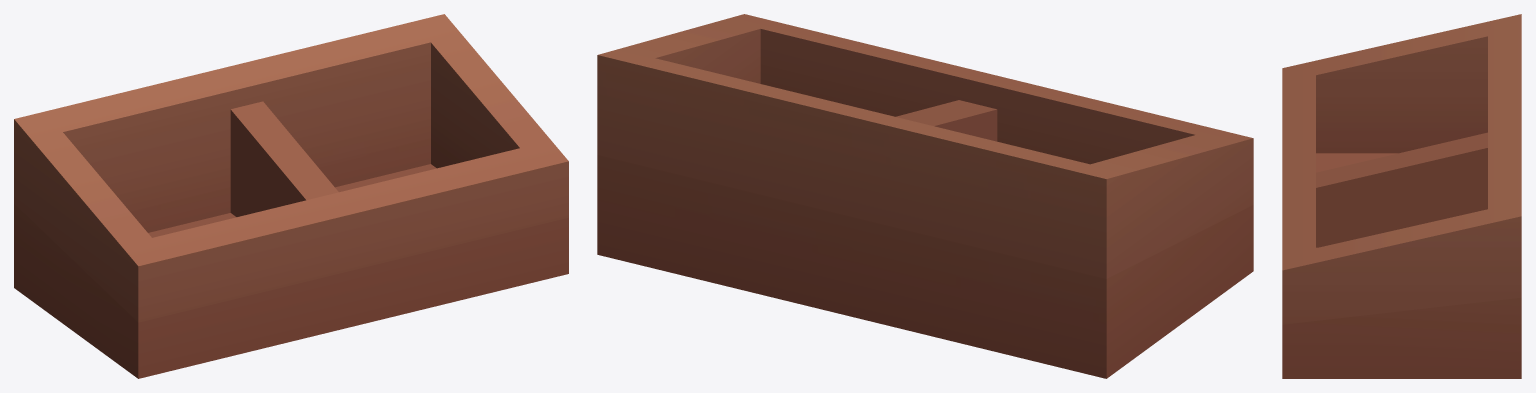
File: kaykit-medieval-hexagon-pack-crate-long-empty.glb
The picture shows the model from 3 angles, left to right: view 1: azimuth 30°, elevation 25°; view 2: azimuth 150°, elevation 25°; view 3: azimuth 270°, elevation 25°; orthographic projection. The views are drawn at different scales.
Parts seen in each view (by area): view 1: crate_long_empty; view 2: crate_long_empty; view 3: crate_long_empty.
Boxes of the visible parts, x1,y1,x2,y2 form: crate_long_empty: [14, 14, 568, 378]; crate_long_empty: [597, 14, 1253, 378]; crate_long_empty: [1282, 14, 1521, 378].
Size of the model in its own units: 0.4 by 0.15 by 0.2.
1 material, 1 textured.
